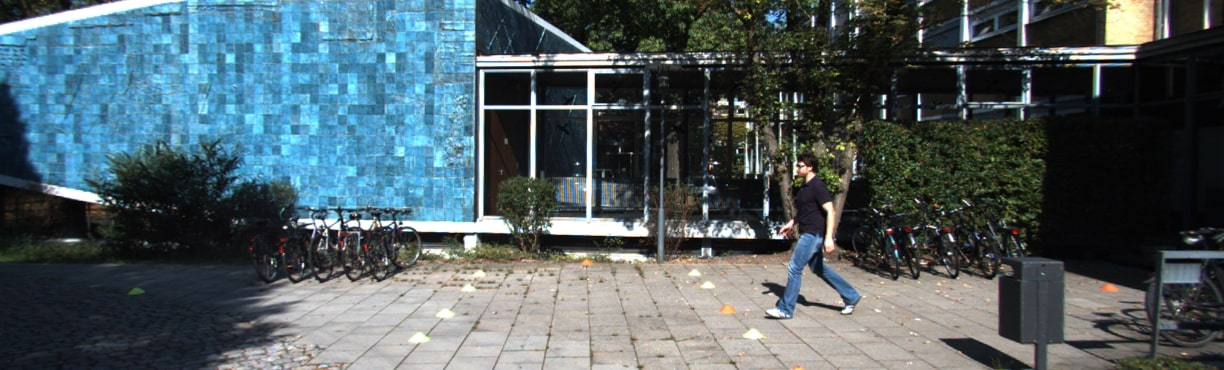person: (764, 143, 864, 320)
